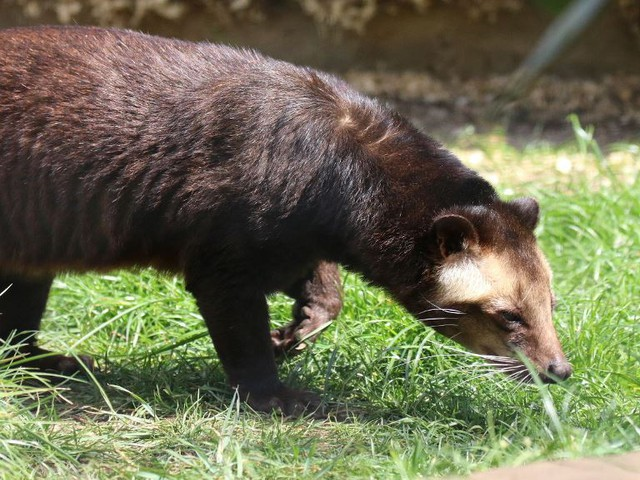civet: (1, 24, 579, 415)
